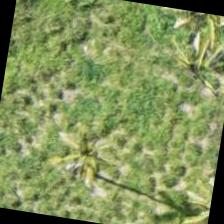Kelapa_Sawit: (30, 104, 134, 208)
